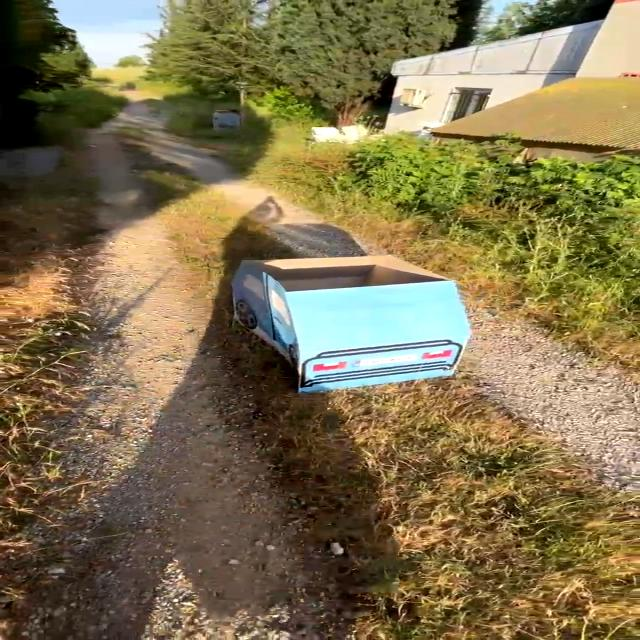blue_car: (208, 211, 505, 413)
